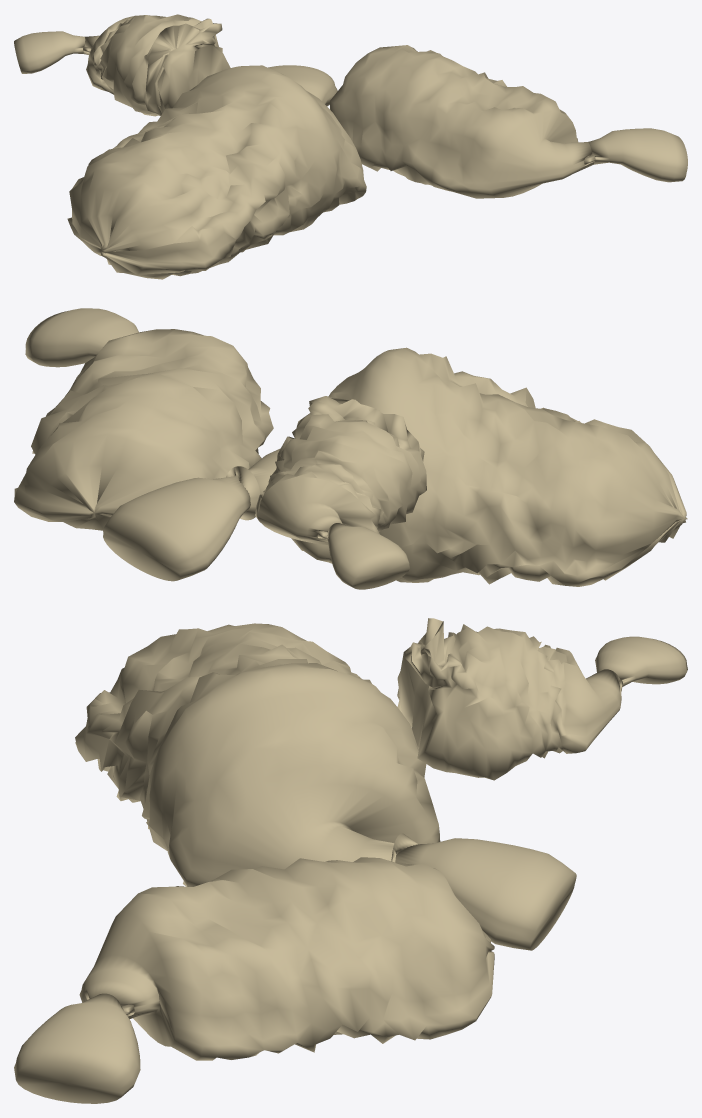
File: sacks.glb
3 views of the same model, one above another, from view 1: azimuth 30°, elevation 25°; view 2: azimuth 150°, elevation 25°; view 3: azimuth 270°, elevation 25° (orthographic). The views are drawn at different scales.
Parts seen in each view (by area): view 1: sacks; view 2: sacks; view 3: sacks.
Part boxes in pixels (bbox=[...]): sacks: bbox=[14, 14, 687, 279]; sacks: bbox=[14, 308, 687, 589]; sacks: bbox=[14, 618, 687, 1103].
Size of the model in its own units: 1.4 by 0.4018 by 1.02.
